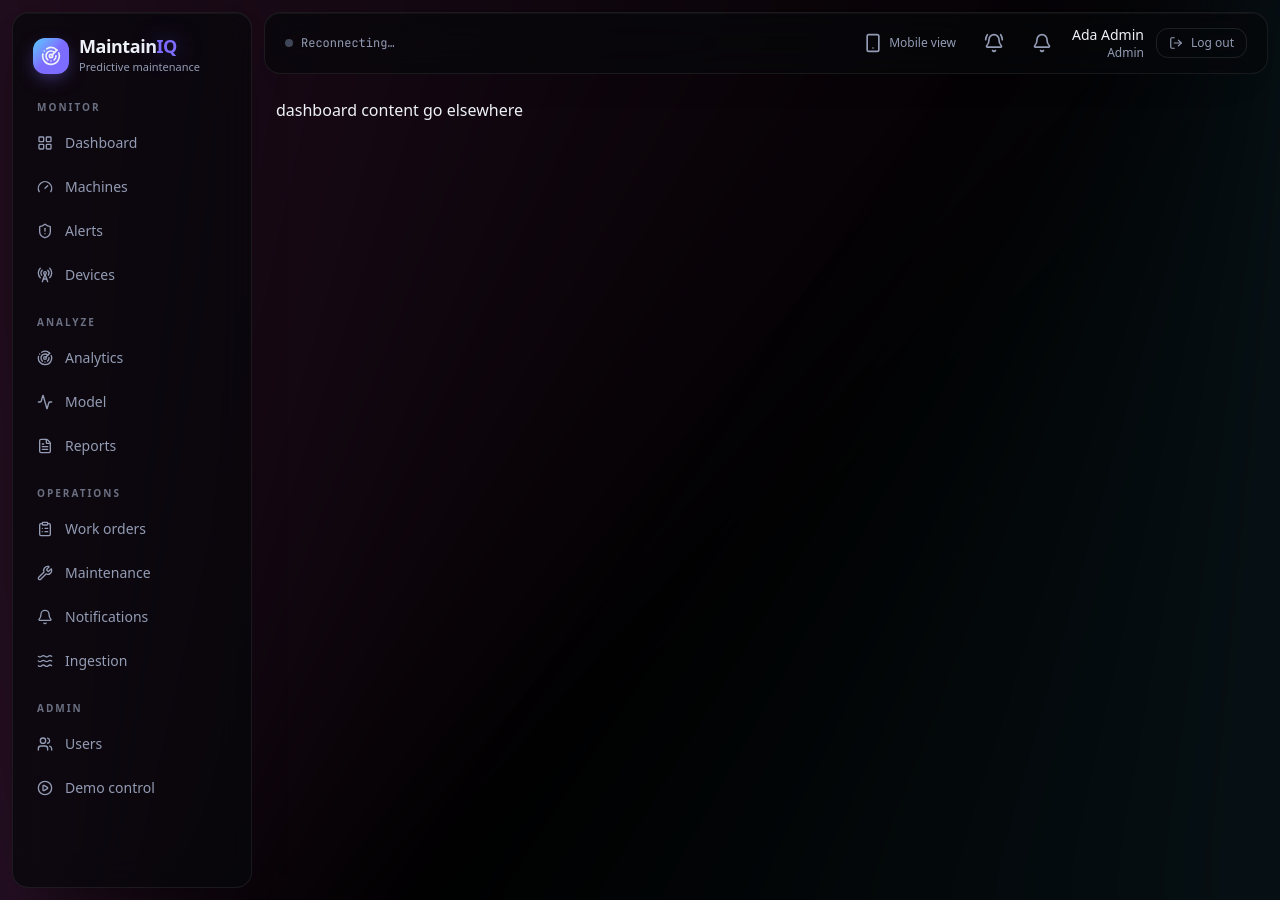
Test: AppShell › on small screens › offers the push switch for this device from the header
Check: the text "dashboard content" is shown, box [276, 99, 423, 121]
Click the button named "This device": (994, 43) [976, 25, 1012, 61]
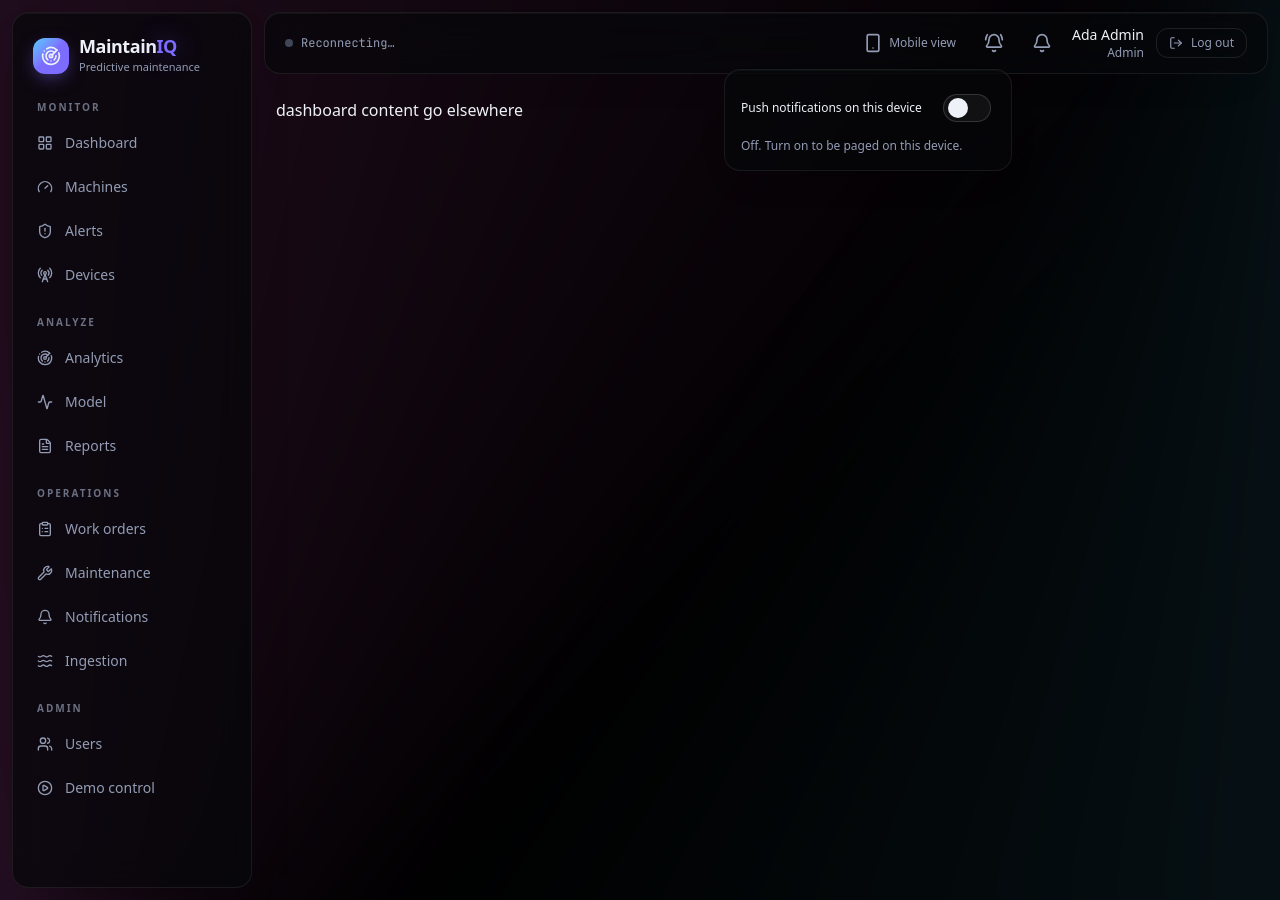
Check: the switch named "push notifications on this device" is shown, box [939, 86, 995, 130]
Click the text "dashboard content": (400, 110) [276, 99, 523, 121]
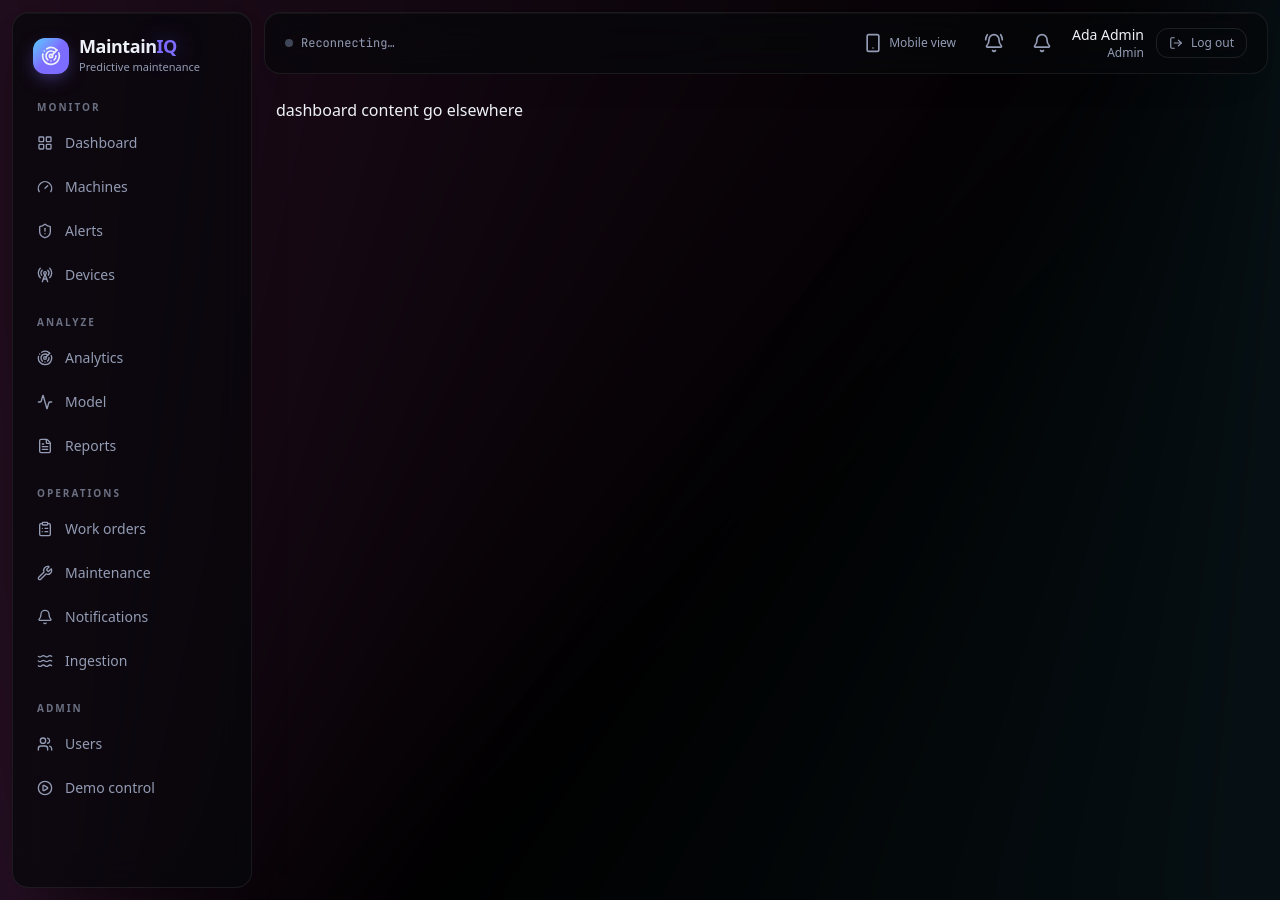
Check: the text "Push notifications" is gone
